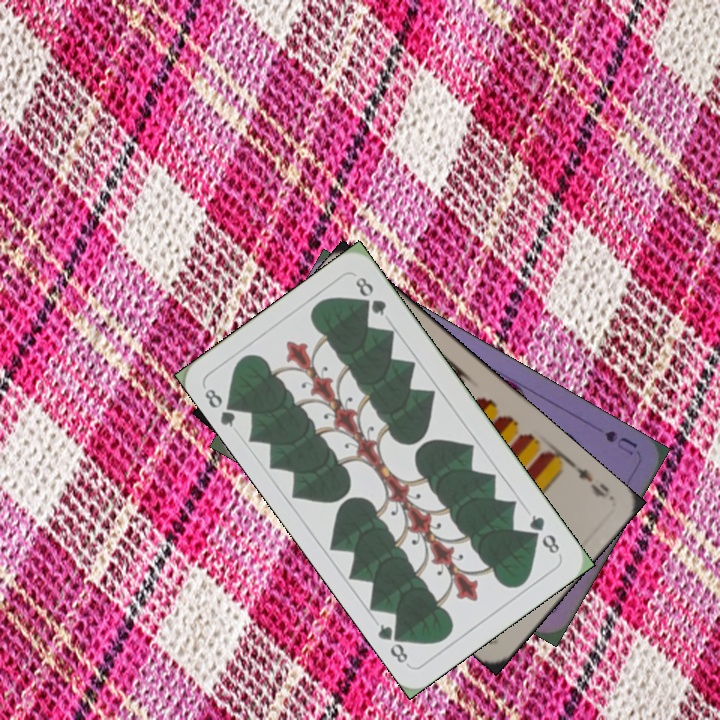E9: (566, 458, 615, 502)
G8: (200, 384, 243, 430), (525, 510, 563, 557)
SU: (600, 426, 640, 459)
